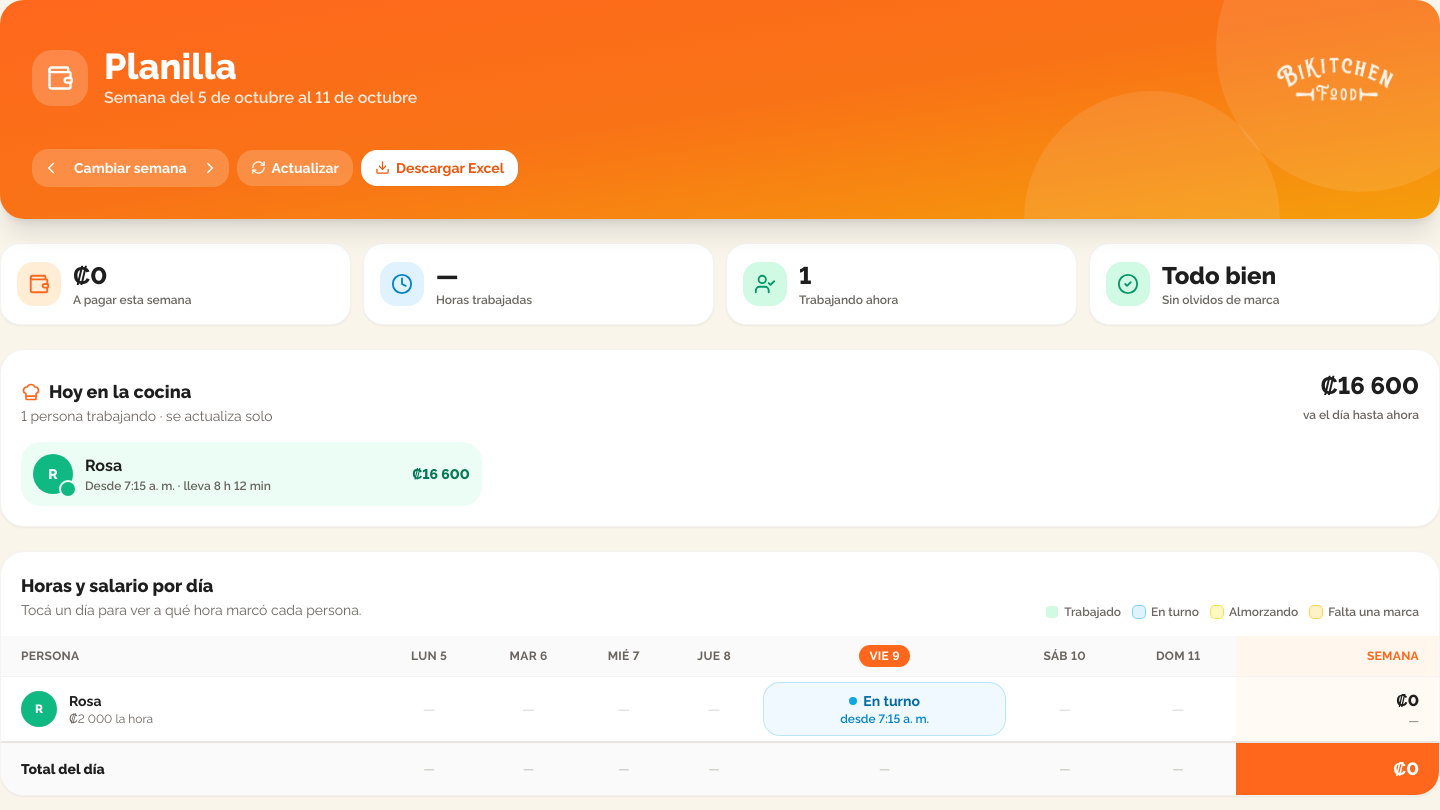
la planilla solo para ver (Gina) › muestra la semana y quién está trabajando, sin nada para cambiar
Expected: the heading "Hoy en la cocina" is shown, [21,381,191,402]
Expected: the text "Rosa" below "1 persona trabajando" is shown, [85,456,122,475]
Click the button "En turno desde 7:15 a. m." at (885,709), box [764,683,1005,735]
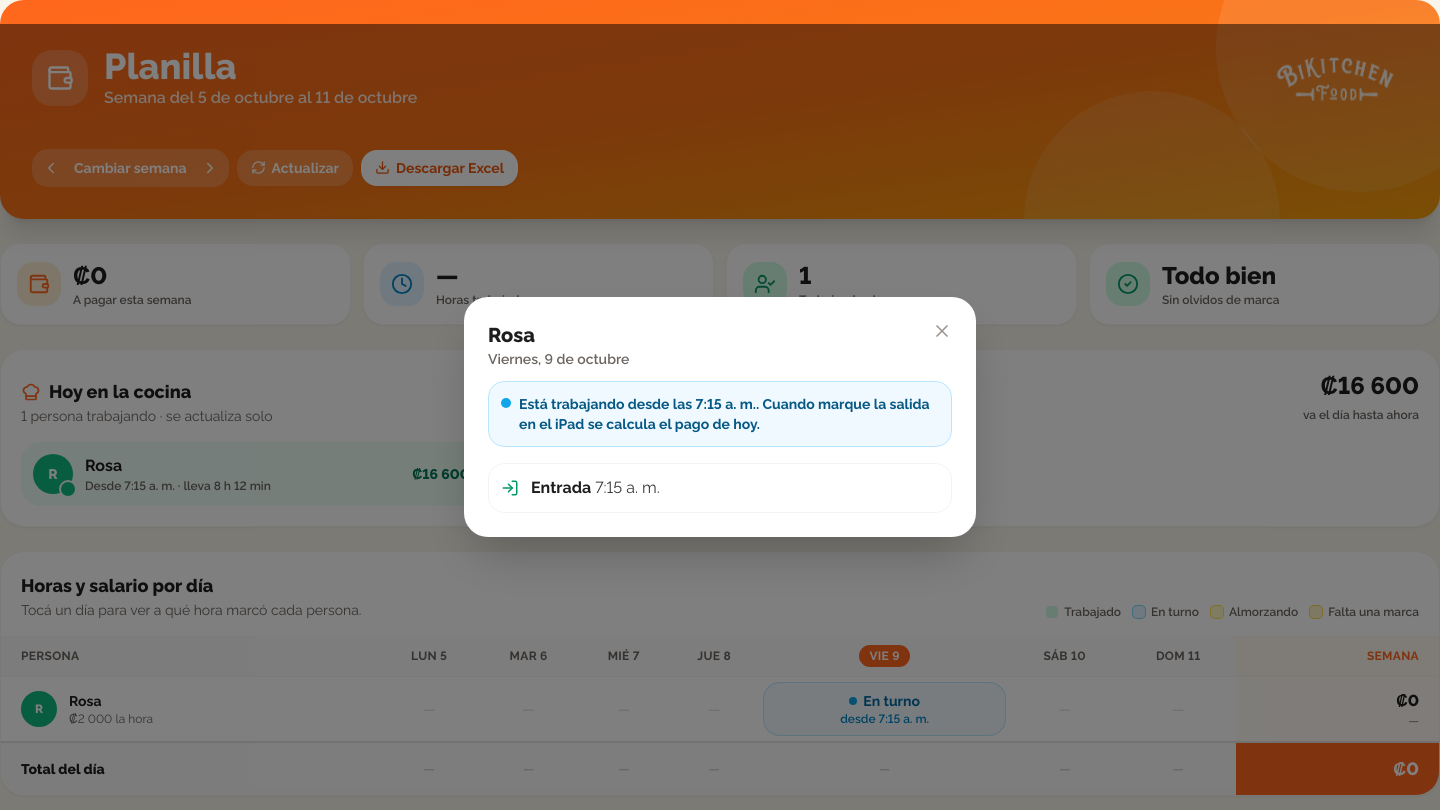
Expected: the text "Está trabajando desde las 7:15 a. m." is shown, [488,381,952,447]
